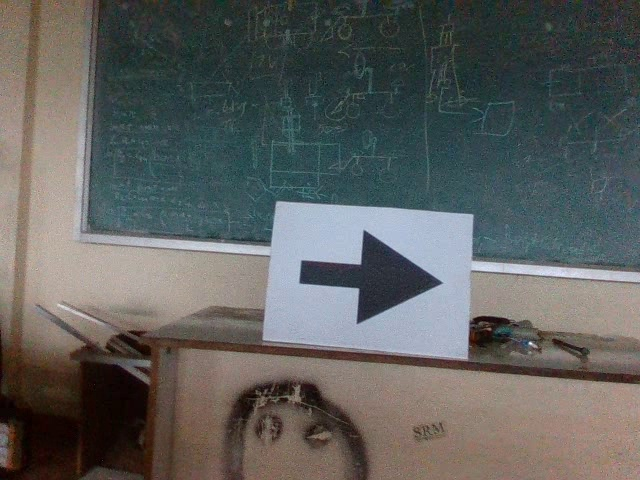Right: (293, 218, 447, 329)
